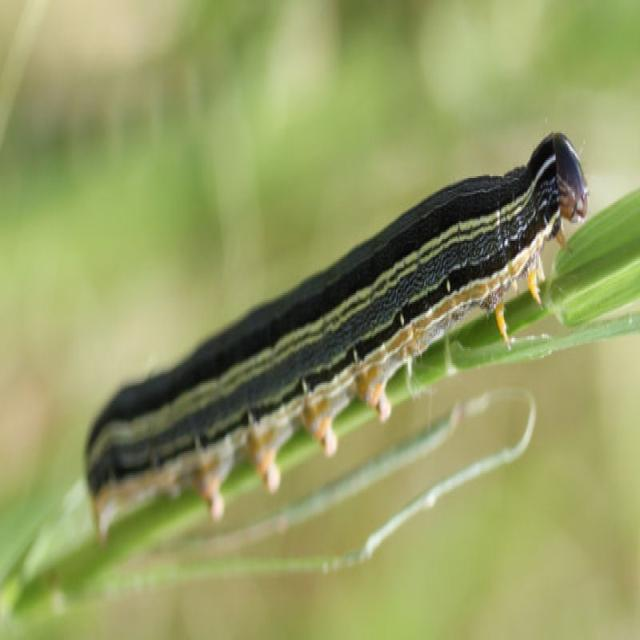worm: (83, 129, 590, 542)
